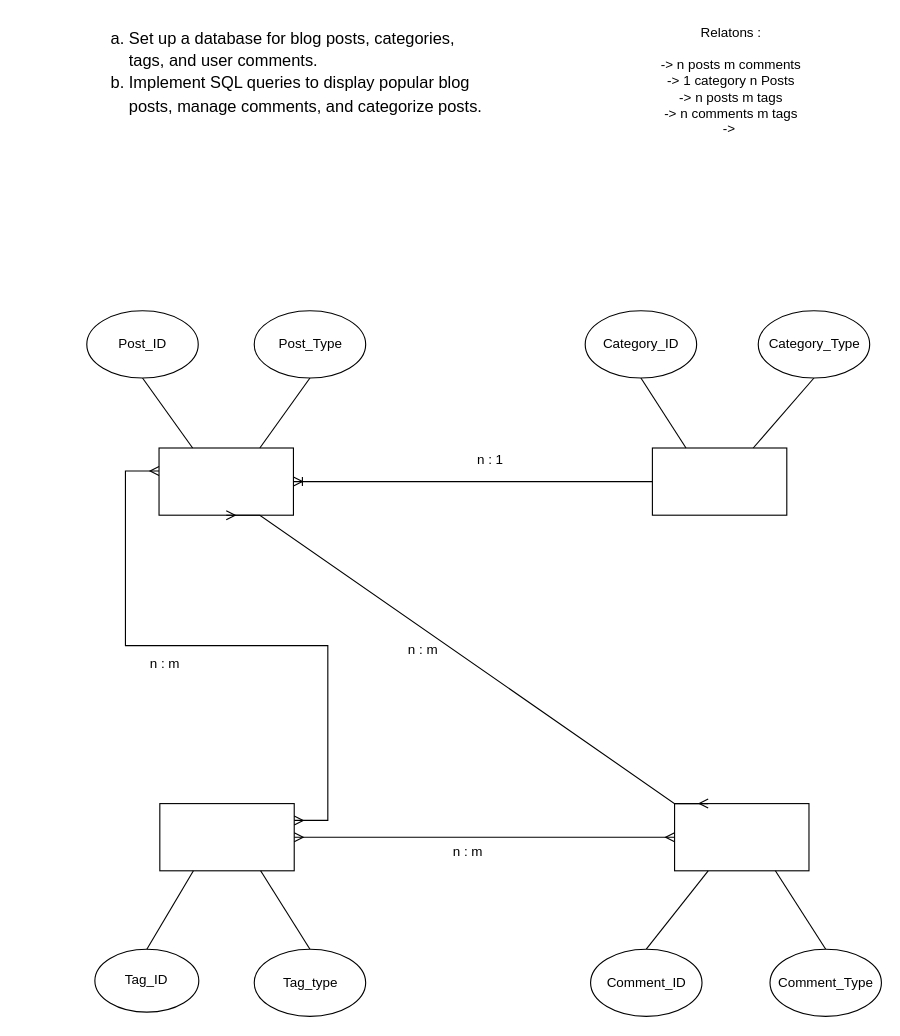
The diagram is 900 pixels wide and 1036 high, and some of its shapes have lost their labels. Here are the shapes that lost their labels. From the top down, the centre of each, then its label:
At pixel 225 481: "Post".
At pixel 719 481: "Category".
At pixel 226 836: "Tag".
At pixel 741 836: "Comment".
